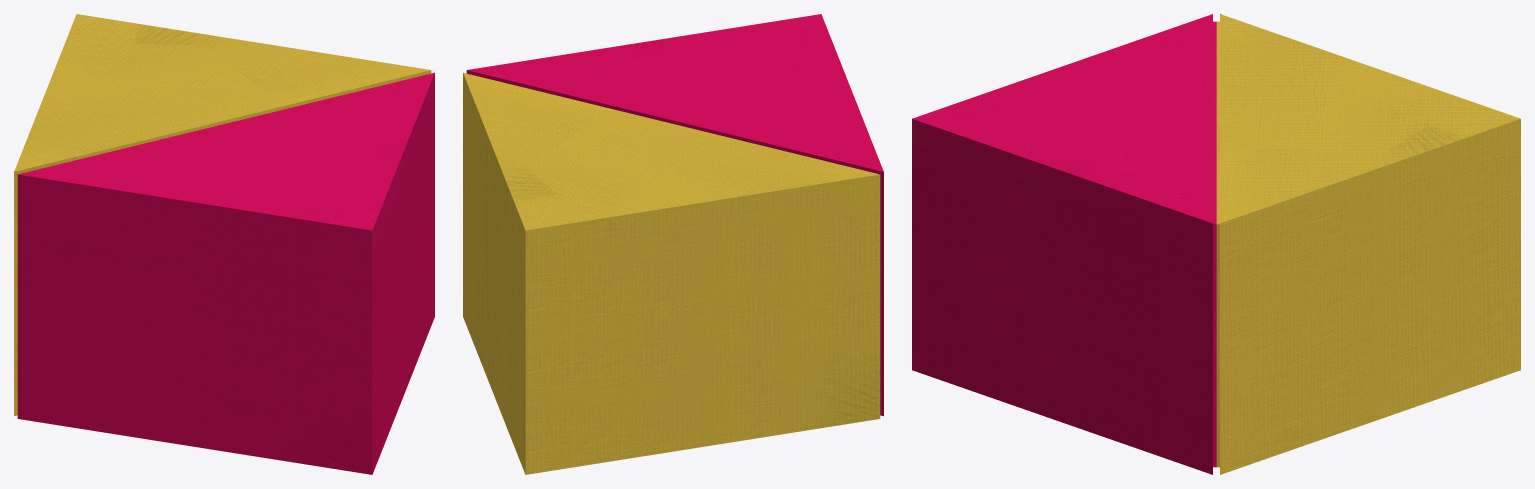
The model's file is OBS0110033.fbx.
3 renders of one model, left to right at view 1: azimuth 30°, elevation 25°; view 2: azimuth 150°, elevation 25°; view 3: azimuth 270°, elevation 25°, orthographic. The views are drawn at different scales.
Visible parts, largest first — view 1: smOBS0110033; view 2: smOBS0110033; view 3: smOBS0110033.
Part boxes in pixels (left/top/right/bottom): smOBS0110033: left=14, top=14, right=434, bottom=474; smOBS0110033: left=463, top=14, right=883, bottom=474; smOBS0110033: left=912, top=14, right=1520, bottom=474.
Bounding box in the file's own units: 290 × 162 × 356.
1 material, 1 textured.
